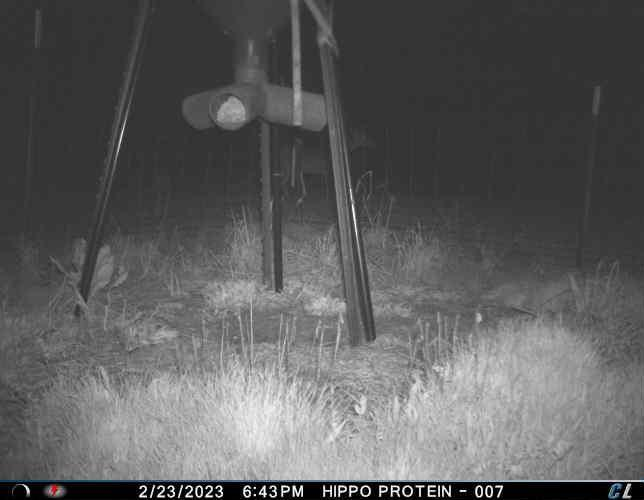Deer: (278, 124, 374, 208)
